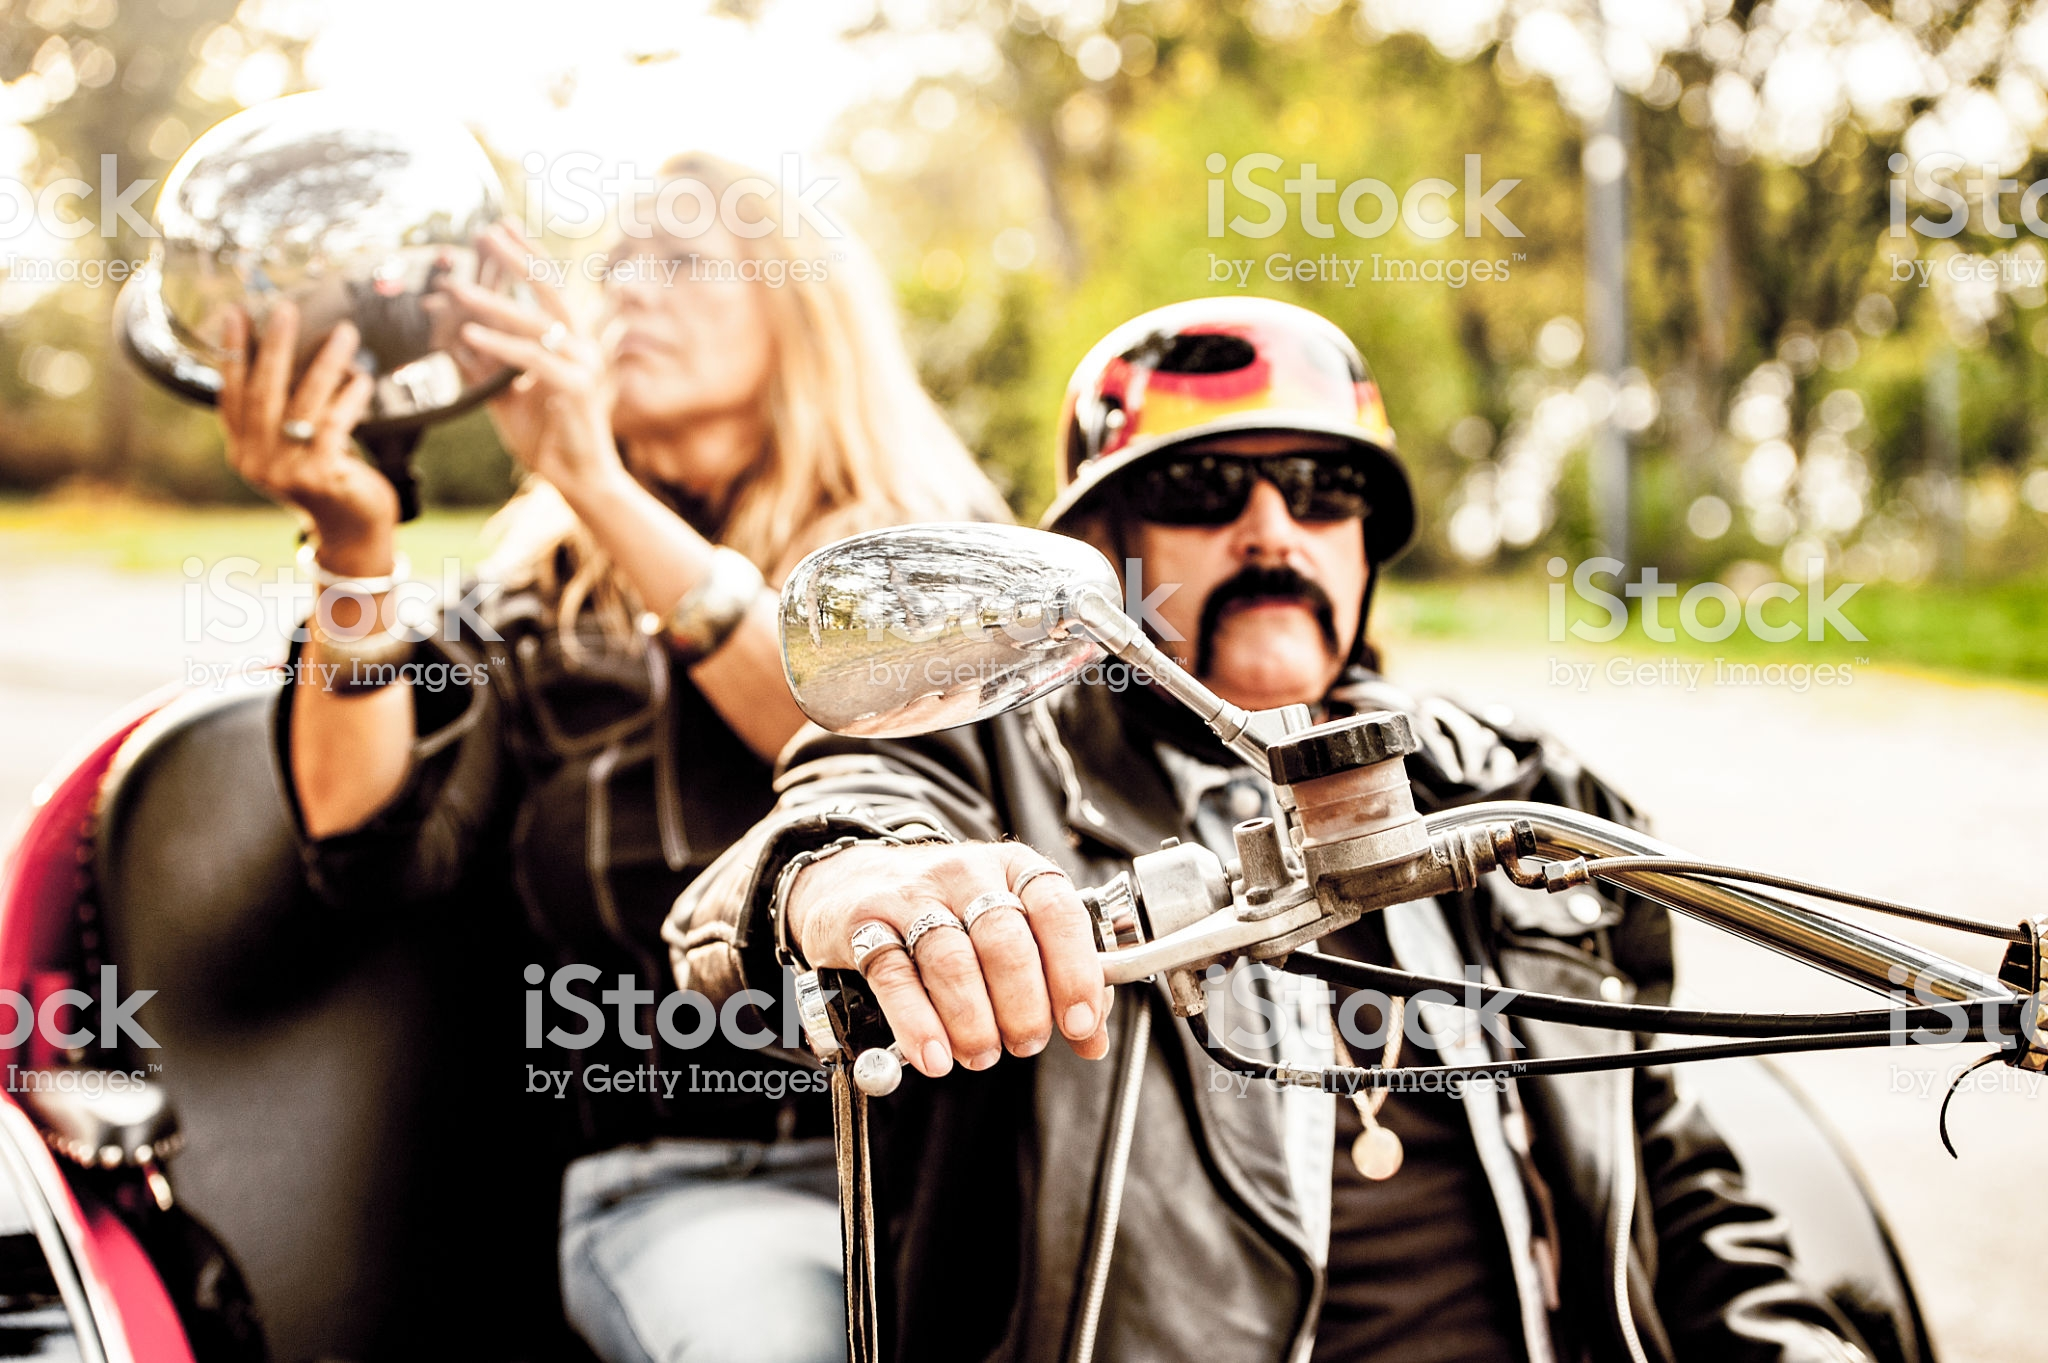helmet: (1029, 260, 1411, 491)
